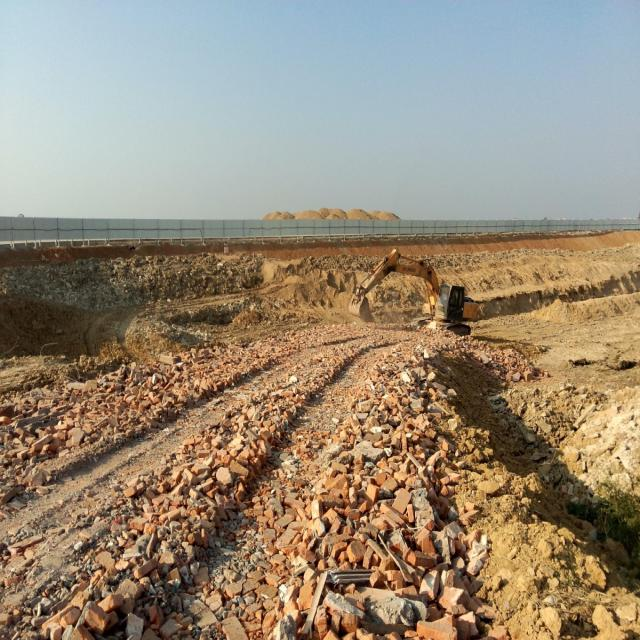excavator: (348, 249, 478, 336)
